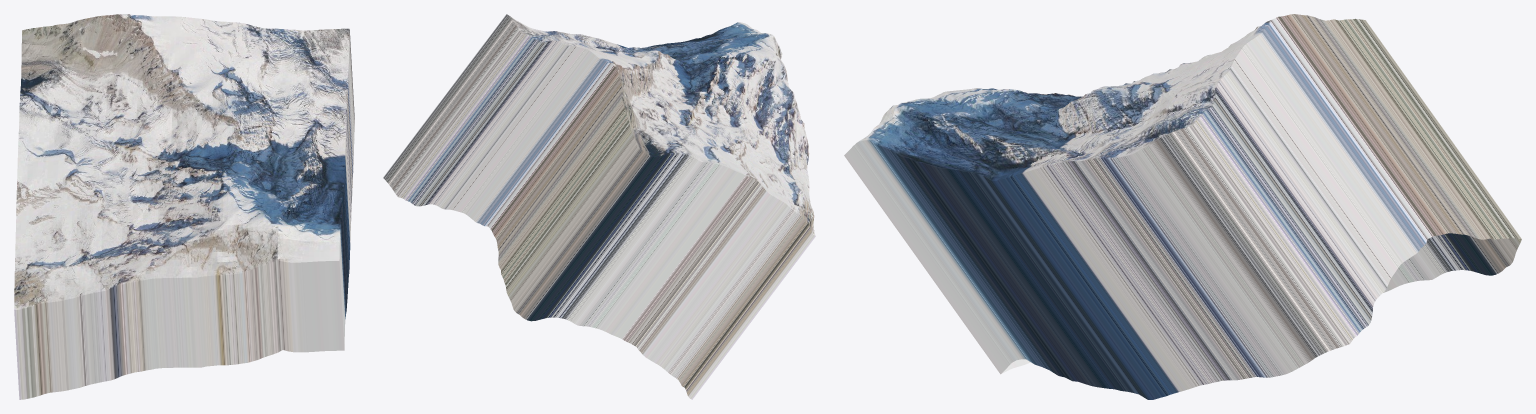
3 renders of one model, left to right at view 1: azimuth 30°, elevation 25°; view 2: azimuth 150°, elevation 25°; view 3: azimuth 270°, elevation 25°, orthographic. The views are drawn at different scales.
Size of the model in its own units: 6102 by 5030 by 7553.
1 material, 1 textured.
